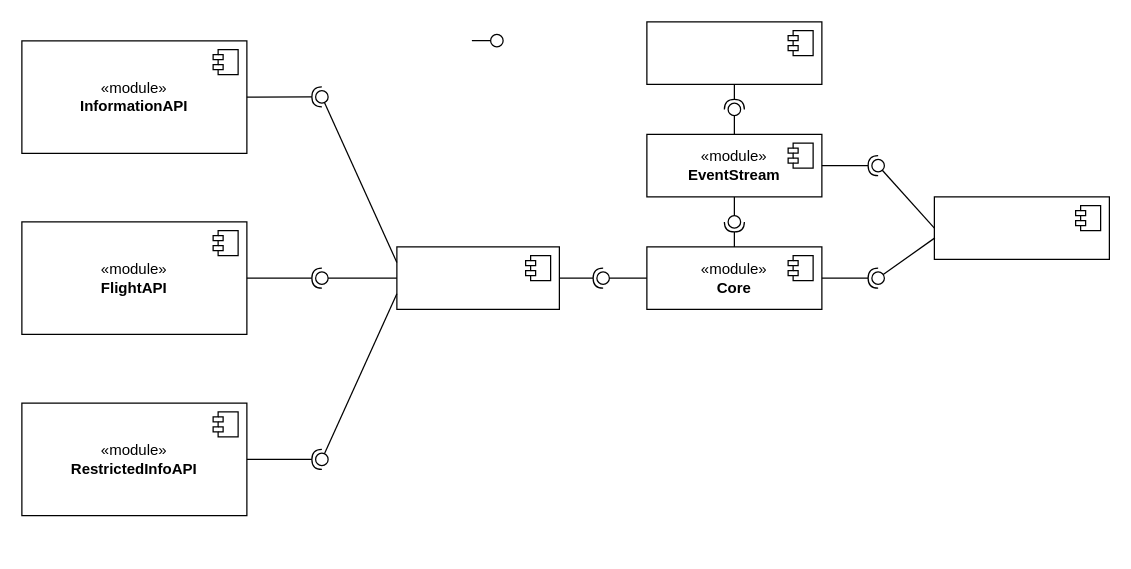
Image size: 1131x569. Some labels were removed from this diagram. Each missing label, with the centre of its shape:
"«module» AirportControl" goes at [1021,227].
"«module» CoreAPI" goes at [477,277].
"«module» DeviceAdapter" goes at [734,52].
